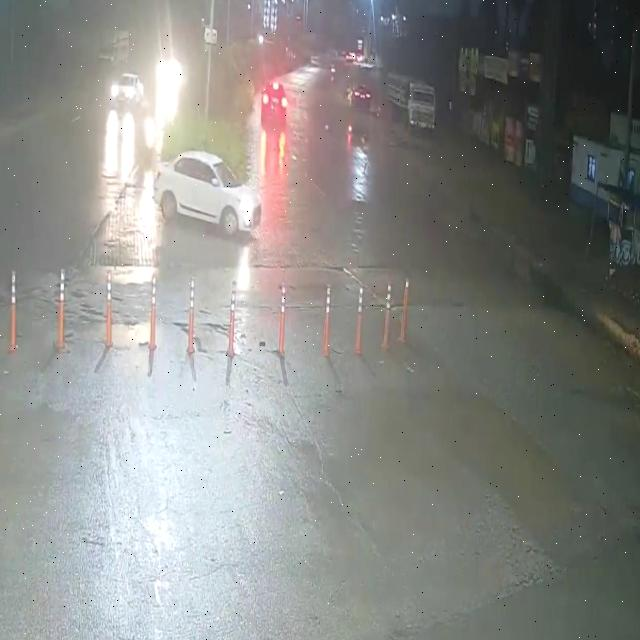accident: (343, 109, 374, 156)
